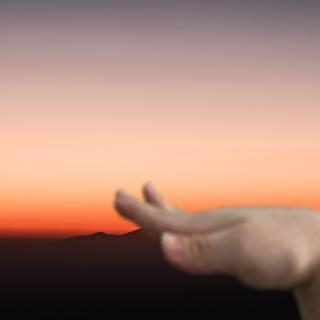Wait: (104, 171, 320, 301)
